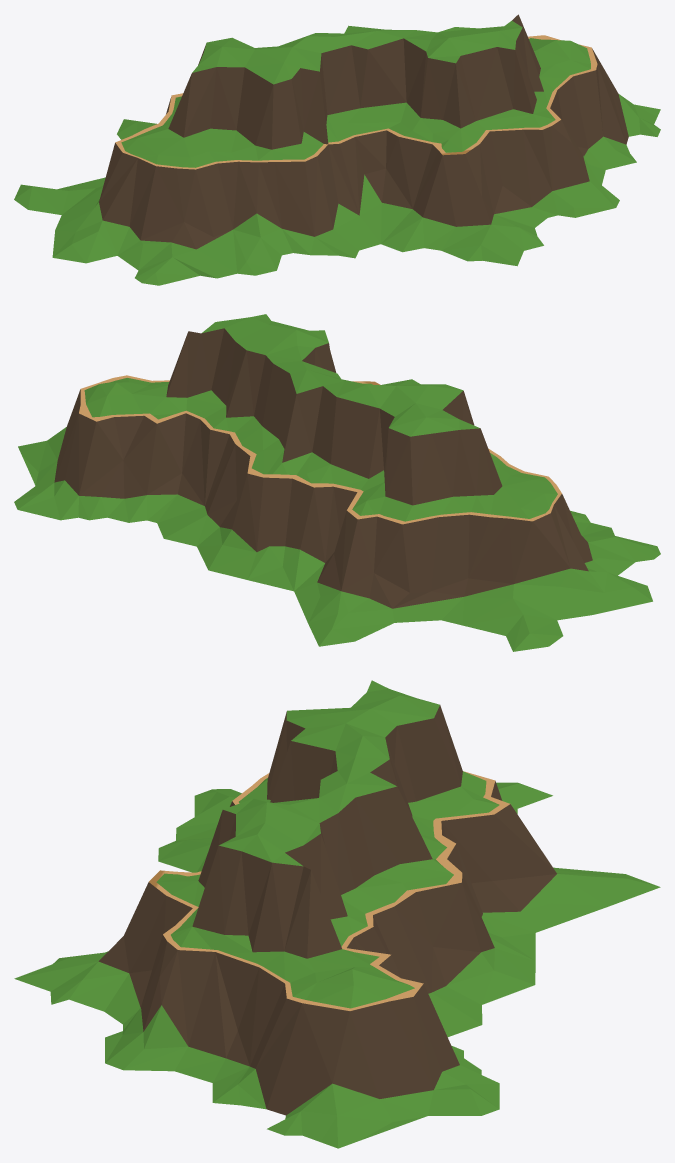
The model's file is mountains.glb.
The picture shows the model from 3 angles, top to bottom: view 1: azimuth 30°, elevation 25°; view 2: azimuth 150°, elevation 25°; view 3: azimuth 270°, elevation 25°; orthographic projection. The views are drawn at different scales.
Parts seen in each view (by area): view 1: mountains; view 2: mountains; view 3: mountains.
Part boxes in pixels (x1,y1,x2,y2): mountains: (14,14,660,285); mountains: (14,314,660,651); mountains: (14,680,660,1148).
Size of the model in its own units: 90 by 21.23 by 63.85.
Materials: 1 (1 with a texture image).
